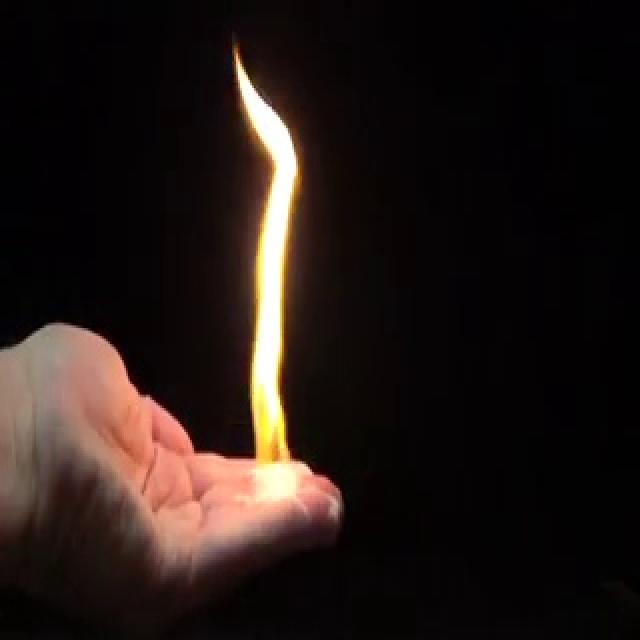fire: (222, 27, 305, 516)
